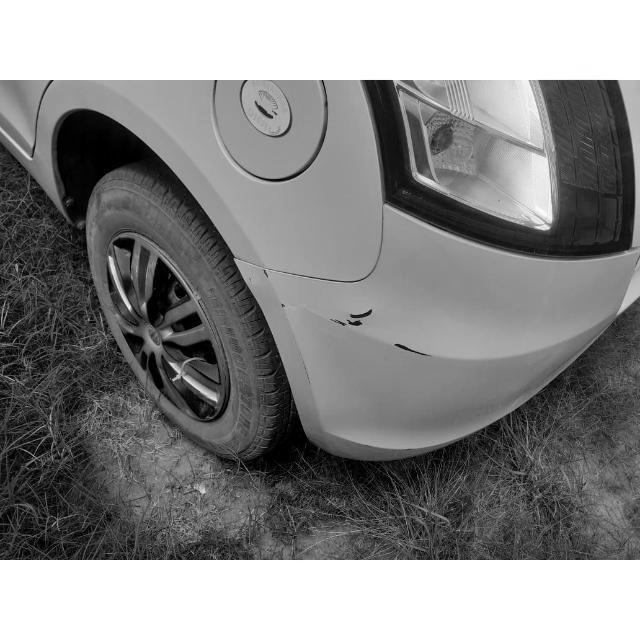rear-bumper-dent: (233, 277, 618, 468)
